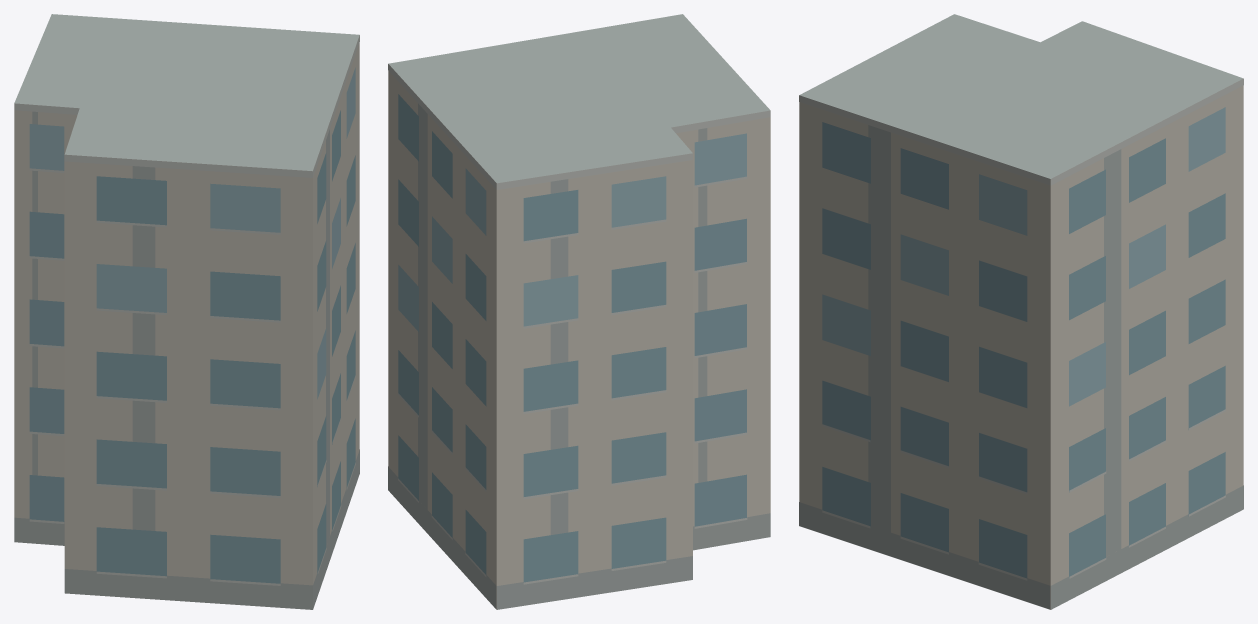
Rendered from survey-upis-32946992.glb.
3 renders of one model, left to right at view 1: azimuth 30°, elevation 25°; view 2: azimuth 150°, elevation 25°; view 3: azimuth 270°, elevation 25°, orthographic. The views are drawn at different scales.
Visible parts, largest first — view 1: survey-upis-32946992.tmp; view 2: survey-upis-32946992.tmp; view 3: survey-upis-32946992.tmp.
Part boxes in pixels (x1,y1,x2,y2): survey-upis-32946992.tmp: [14, 14, 359, 609]; survey-upis-32946992.tmp: [388, 14, 770, 609]; survey-upis-32946992.tmp: [799, 14, 1243, 609].
Size of the model in its own units: 12.82 by 15.6 by 14.59.
